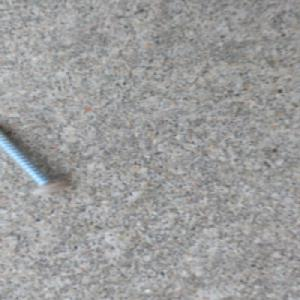Screw: (0, 119, 73, 197)
